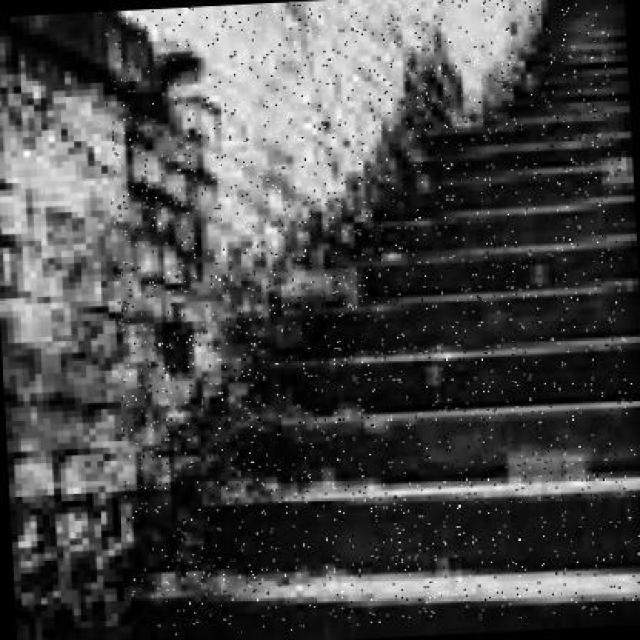Stairs: (103, 13, 637, 605)
